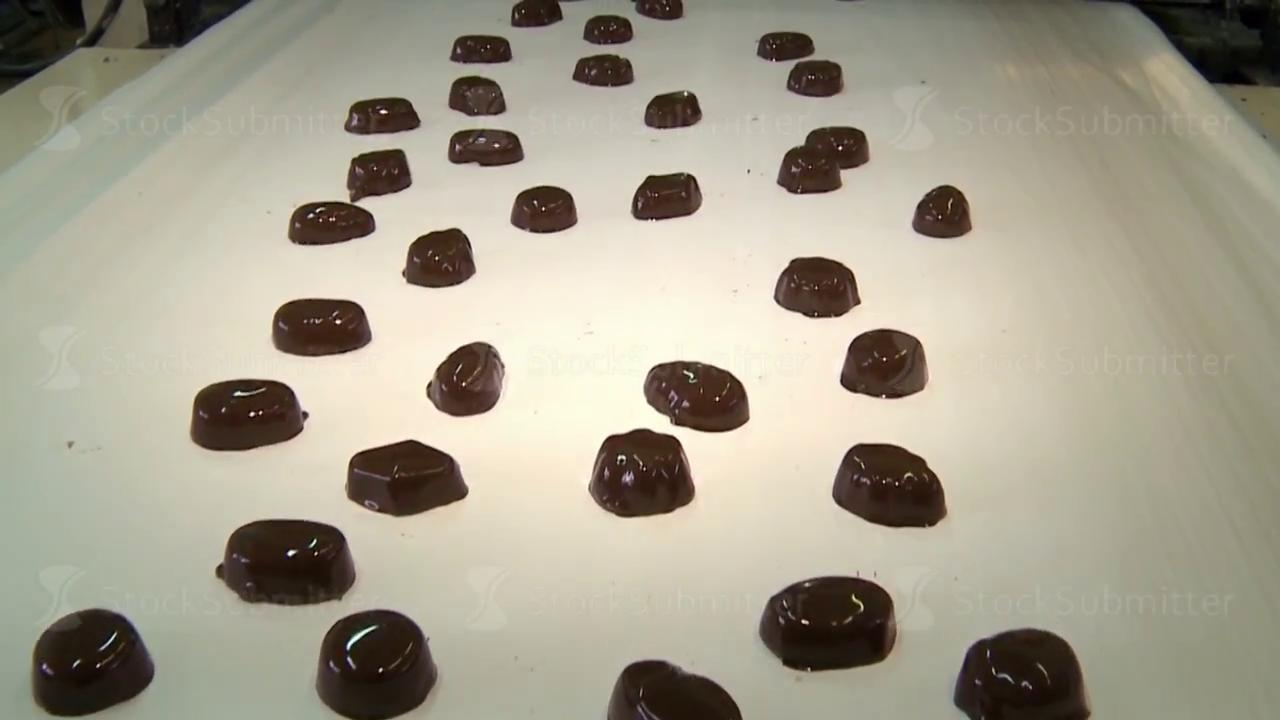chocolate: (31, 607, 155, 716), (315, 608, 437, 718), (759, 575, 897, 671), (954, 627, 1090, 719), (216, 518, 356, 605), (832, 442, 946, 528), (588, 428, 695, 517), (346, 438, 468, 516), (190, 377, 307, 451), (607, 658, 742, 719), (643, 359, 749, 431), (840, 328, 928, 398), (426, 341, 505, 416), (272, 298, 371, 356), (773, 256, 860, 318), (402, 227, 475, 288), (288, 201, 375, 245), (631, 172, 702, 220), (347, 148, 411, 200), (510, 185, 577, 233), (912, 184, 971, 238), (777, 144, 841, 193), (344, 96, 420, 134), (448, 128, 523, 166), (805, 125, 869, 168), (449, 75, 505, 115), (644, 90, 701, 128), (787, 59, 842, 96), (573, 53, 634, 86), (450, 34, 511, 63), (757, 31, 814, 61), (583, 14, 633, 44), (511, 0, 562, 27)
